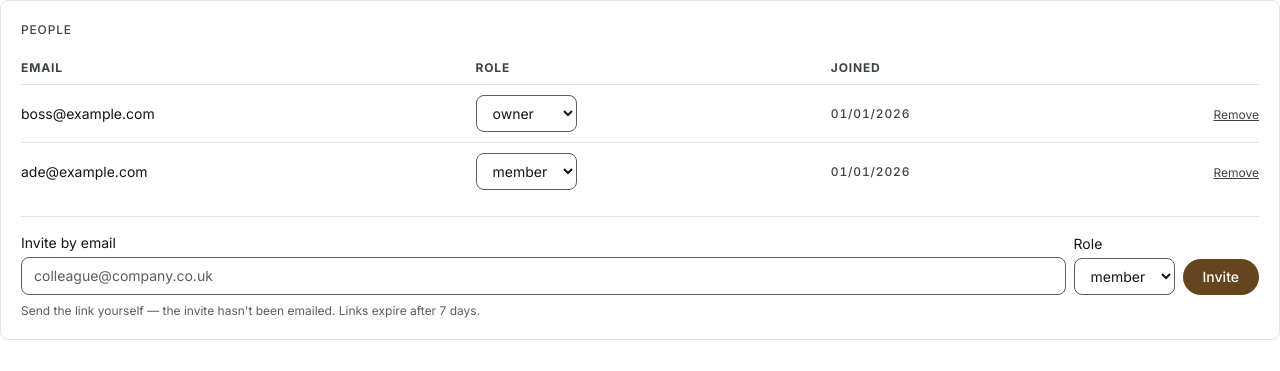
Test case: removing somebody who looked after facts › says how many facts are now nobody's, and offers to reassign them
This screenshot has width=1280, height=371.
Click the button "Remove" in the row of "ade@example.com": (1236, 173) [1214,165,1259,181]
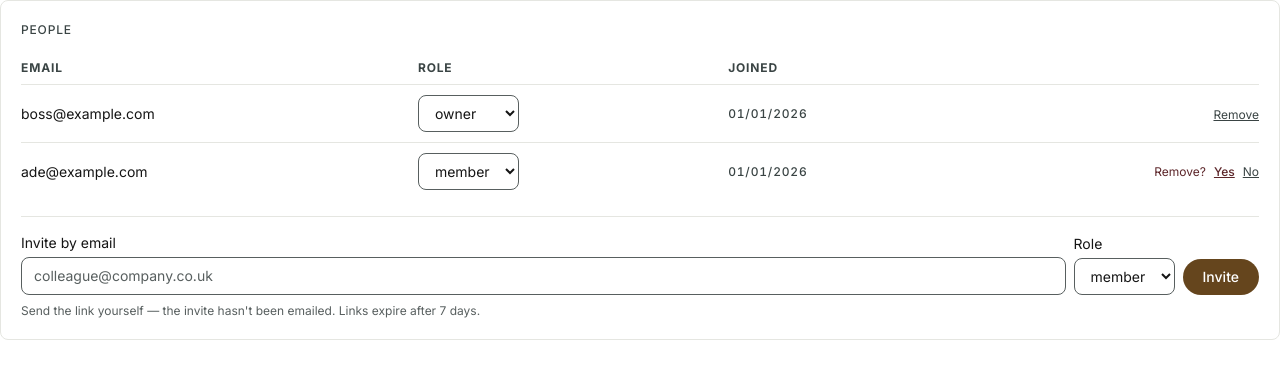
Click the button "Yes": (1224, 172) [1214,164,1235,180]
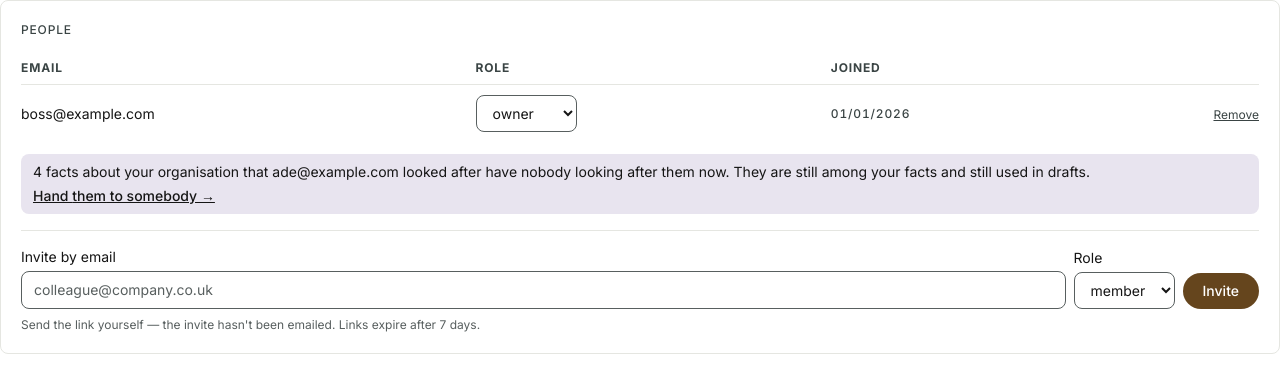
Now the text "4 facts about your organisation" is shown, box [33,162,1247,182]
Now the text "ade@example.com" is shown, box [239,163,485,180]
